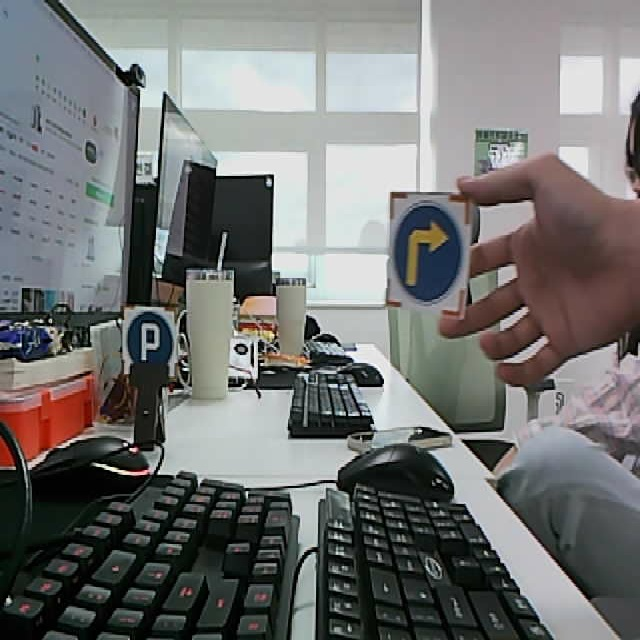right: (385, 191, 474, 317)
